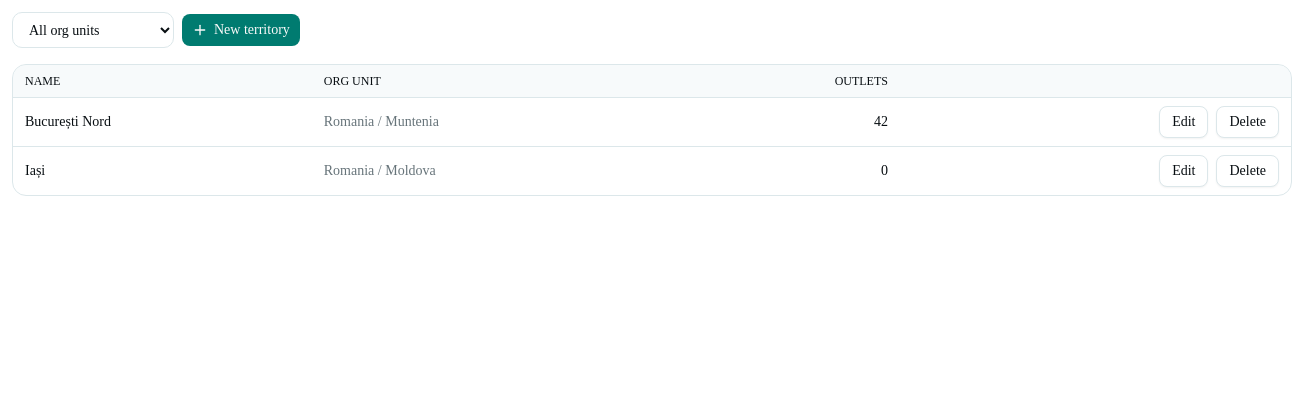
Test: <TerritoryBrowser> › opens the form on the territory whose Edit was pressed
This screenshot has width=1292, height=409.
Expected: the table is shown, [13,65,1291,195]
What coordinates should you click on to do the following:
click the button with aria-label "Edit București Nord"
I would click on:
 (1184, 122)
Its box is [1159,106,1208,138].
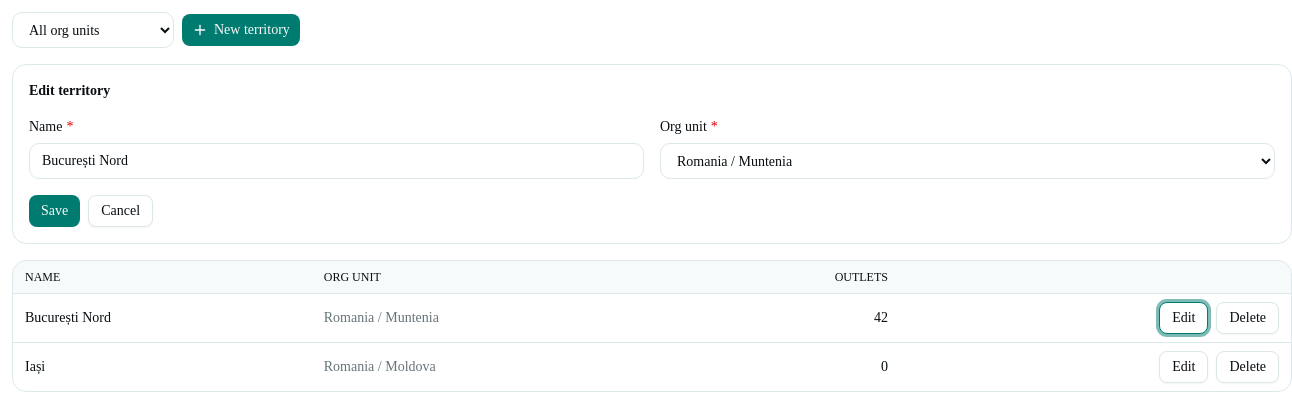
Result: the field labelled "Name*" holds "București Nord" at [29,143,644,179]
What coordinates should you click on to do the following:
click the button with aria-label "Edit Iași"
I would click on:
 (1184, 367)
Its box is [1159,351,1208,383].
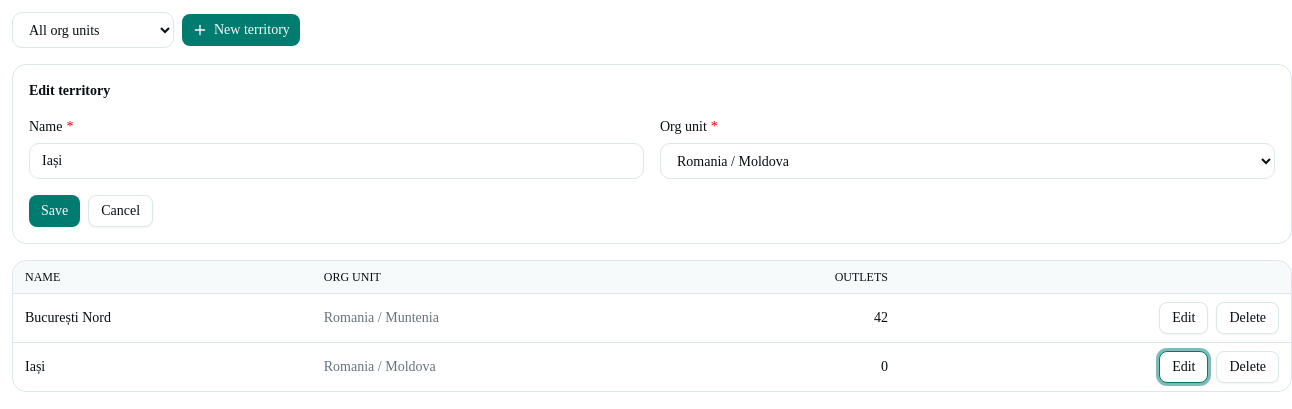
Result: the field labelled "Name*" holds "Iași" at [29,143,644,179]
Result: the dropdown labelled "Org unit*" shows "Romania / Moldova" at [660,143,1275,179]
